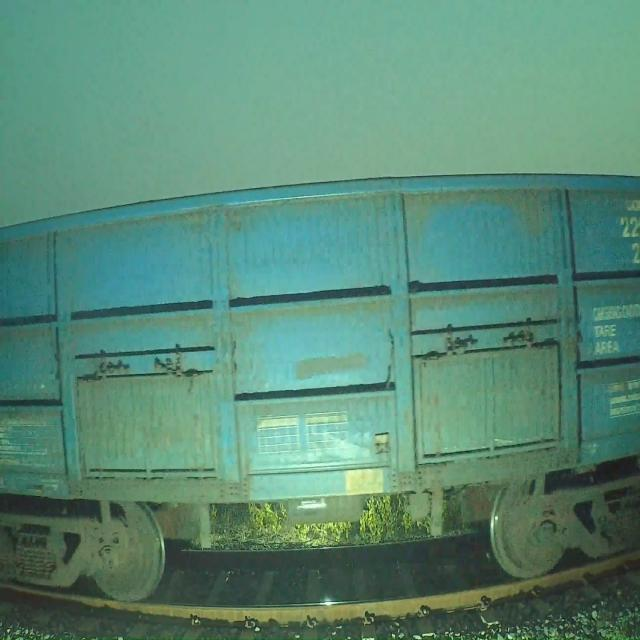WAgon-uic: (0, 166, 640, 606)
uic: (614, 207, 640, 268)
